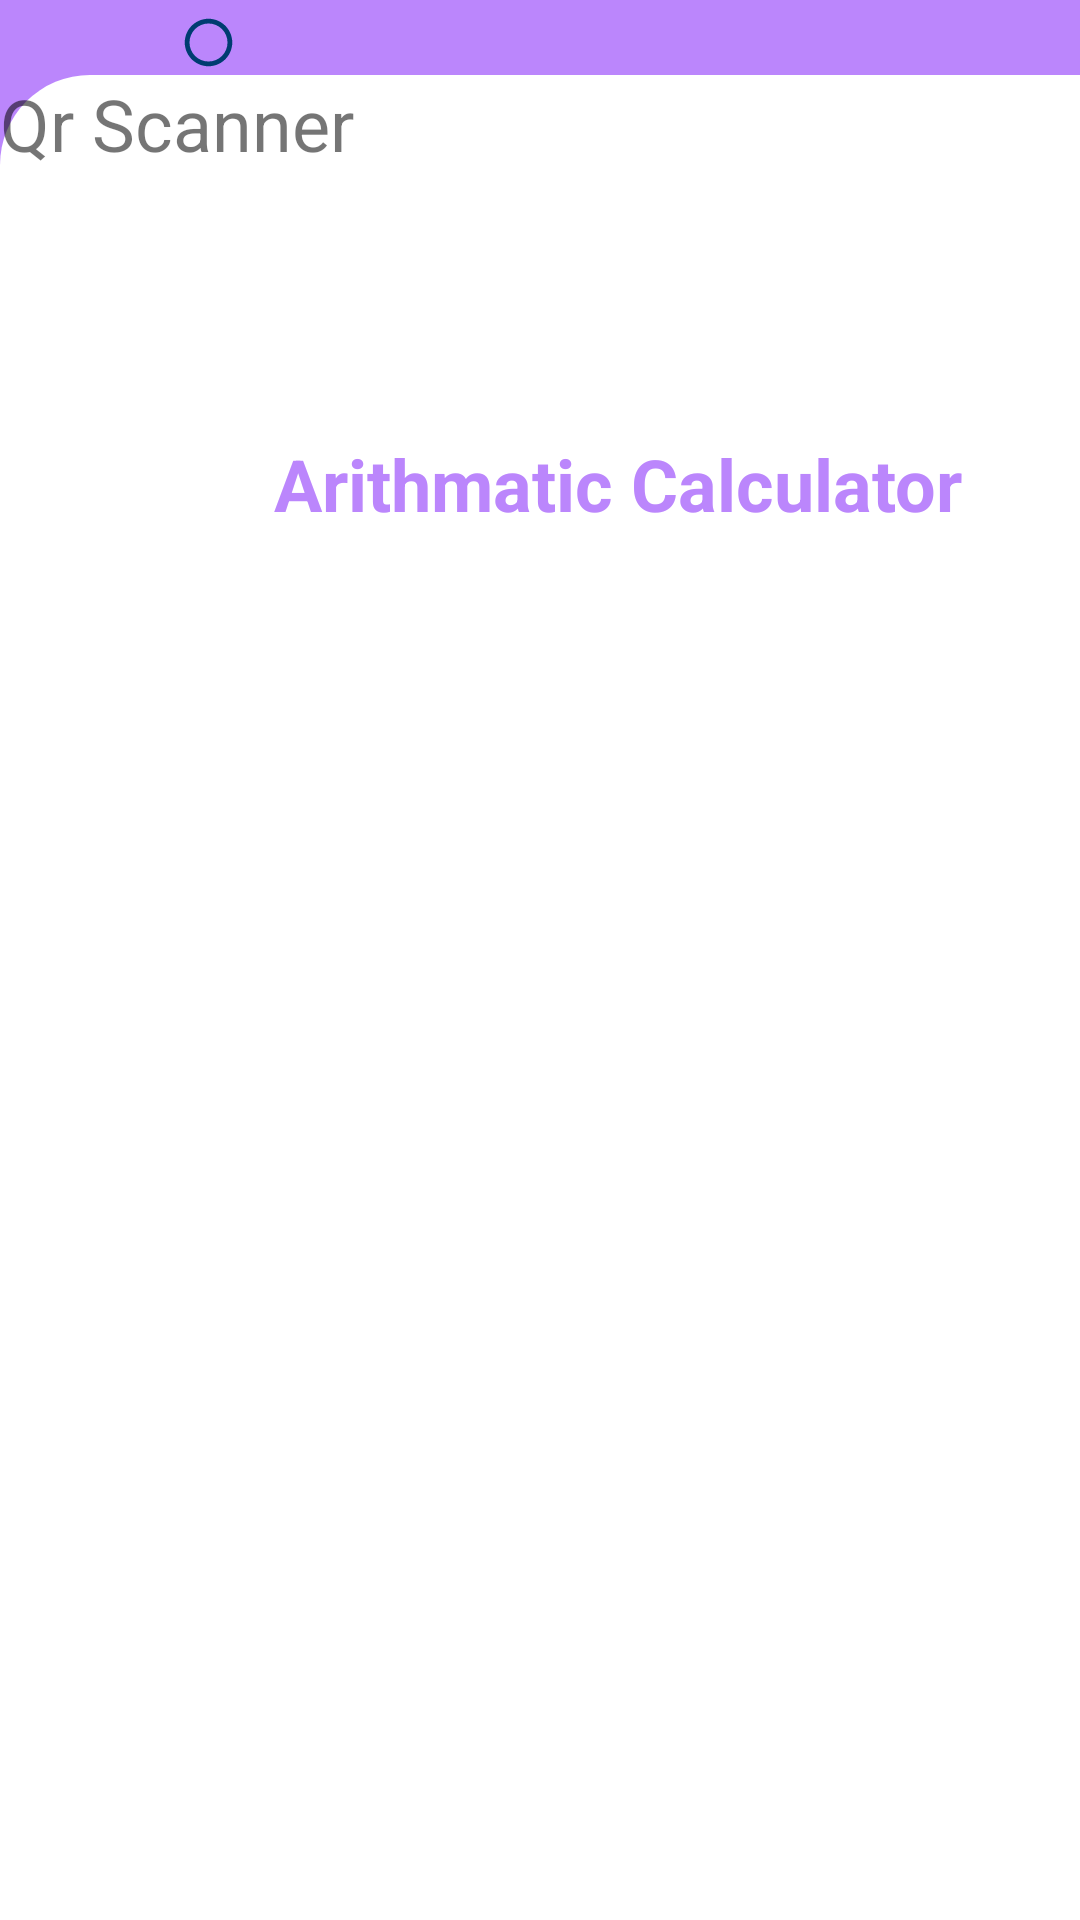

Screen size 1080px x 1920px. Icon name, then its center in pixels as [x,y]:
radio unchecked: [208,42]
